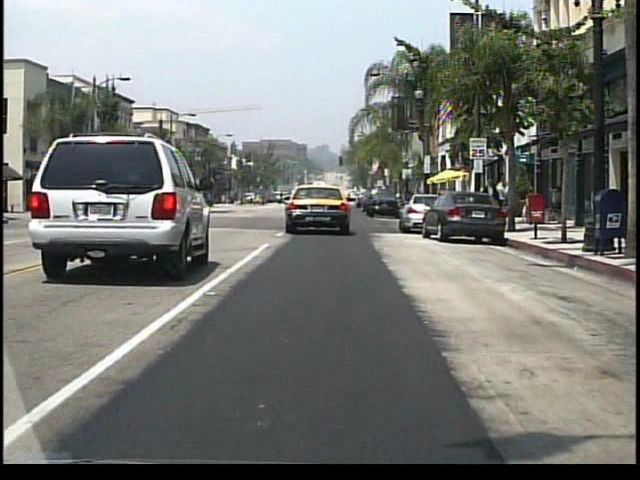person: (483, 177, 501, 223), (485, 179, 500, 220), (501, 181, 514, 220), (497, 184, 506, 212), (278, 190, 286, 205)
